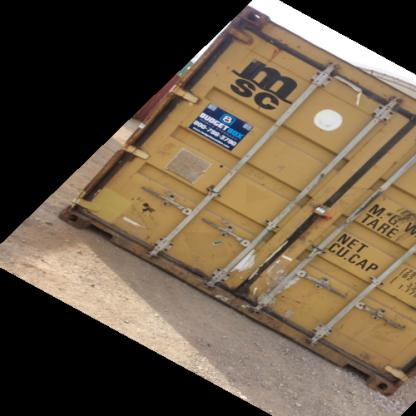Damage: (252, 247, 298, 321), (236, 8, 290, 65), (242, 148, 296, 194), (337, 344, 404, 377), (128, 189, 164, 244), (200, 213, 247, 251), (384, 197, 415, 252)
